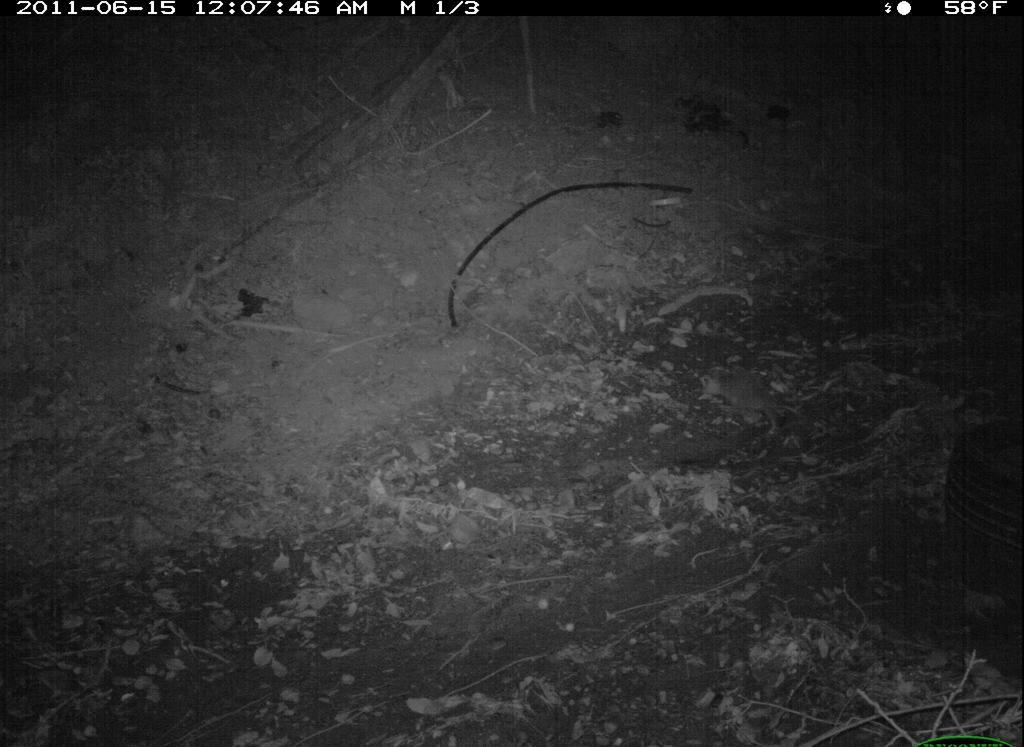opossum: (697, 363, 806, 443)
